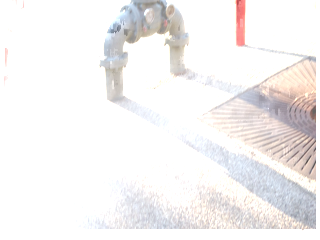Obstacle: (104, 4, 192, 90), (236, 2, 250, 49)
